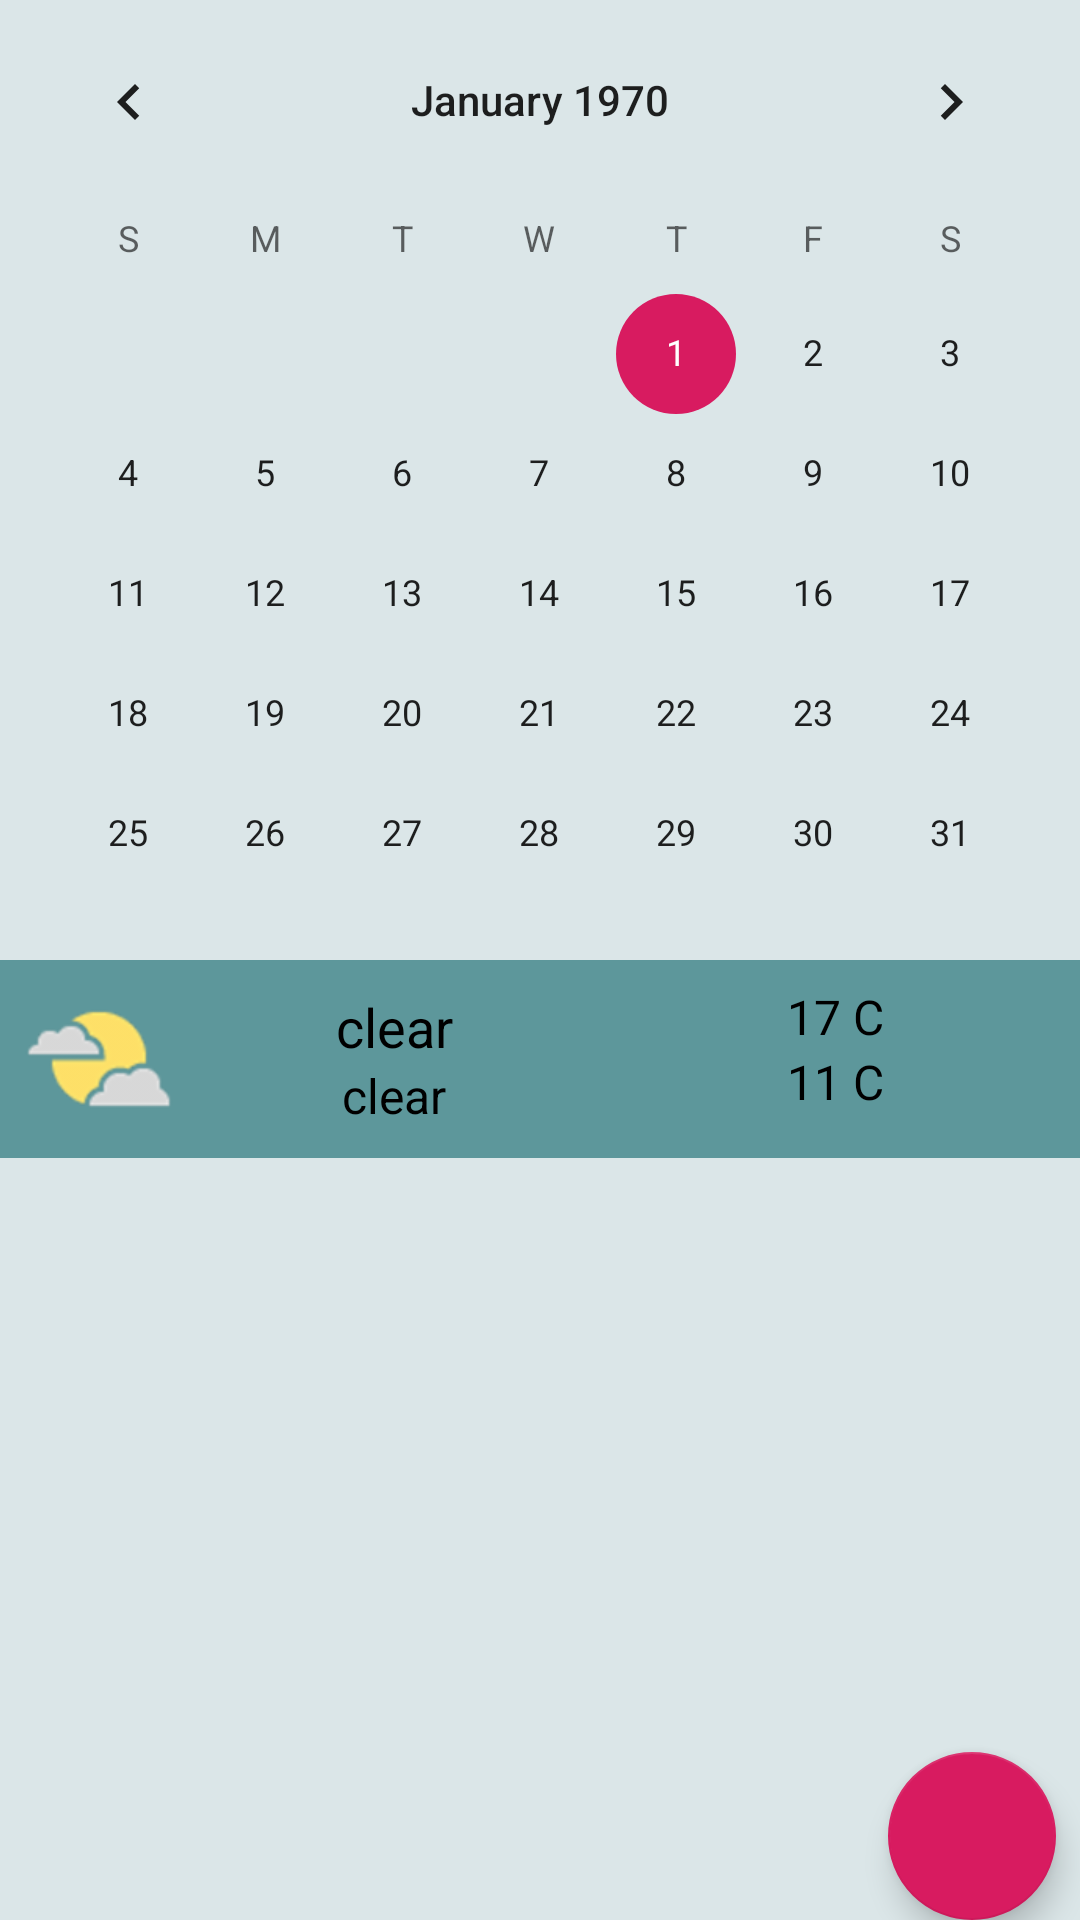

Locate icon controls on the screen. Image size 1080*1920, boxes as region(x1, y1, x2, y2).
partly cloudy: region(28, 1011, 170, 1107)
